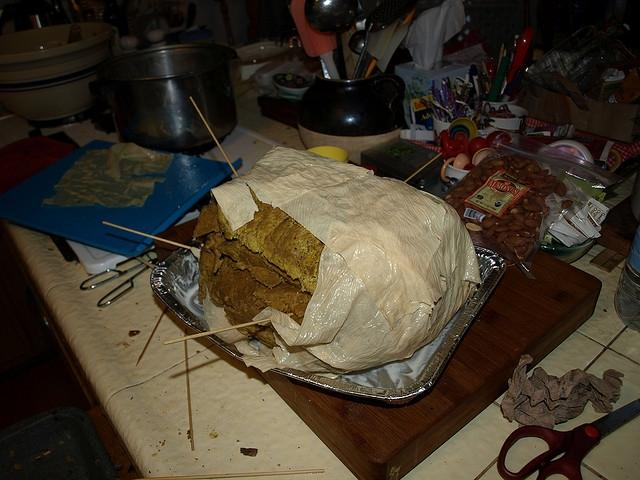almond: (514, 212, 526, 222), (501, 156, 509, 170), (498, 214, 514, 220), (522, 156, 532, 164), (506, 232, 520, 236)
